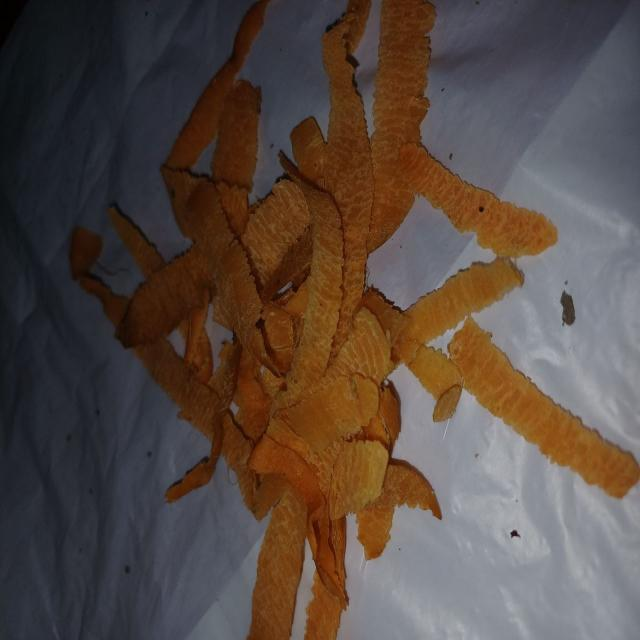organic: (64, 1, 638, 640)
